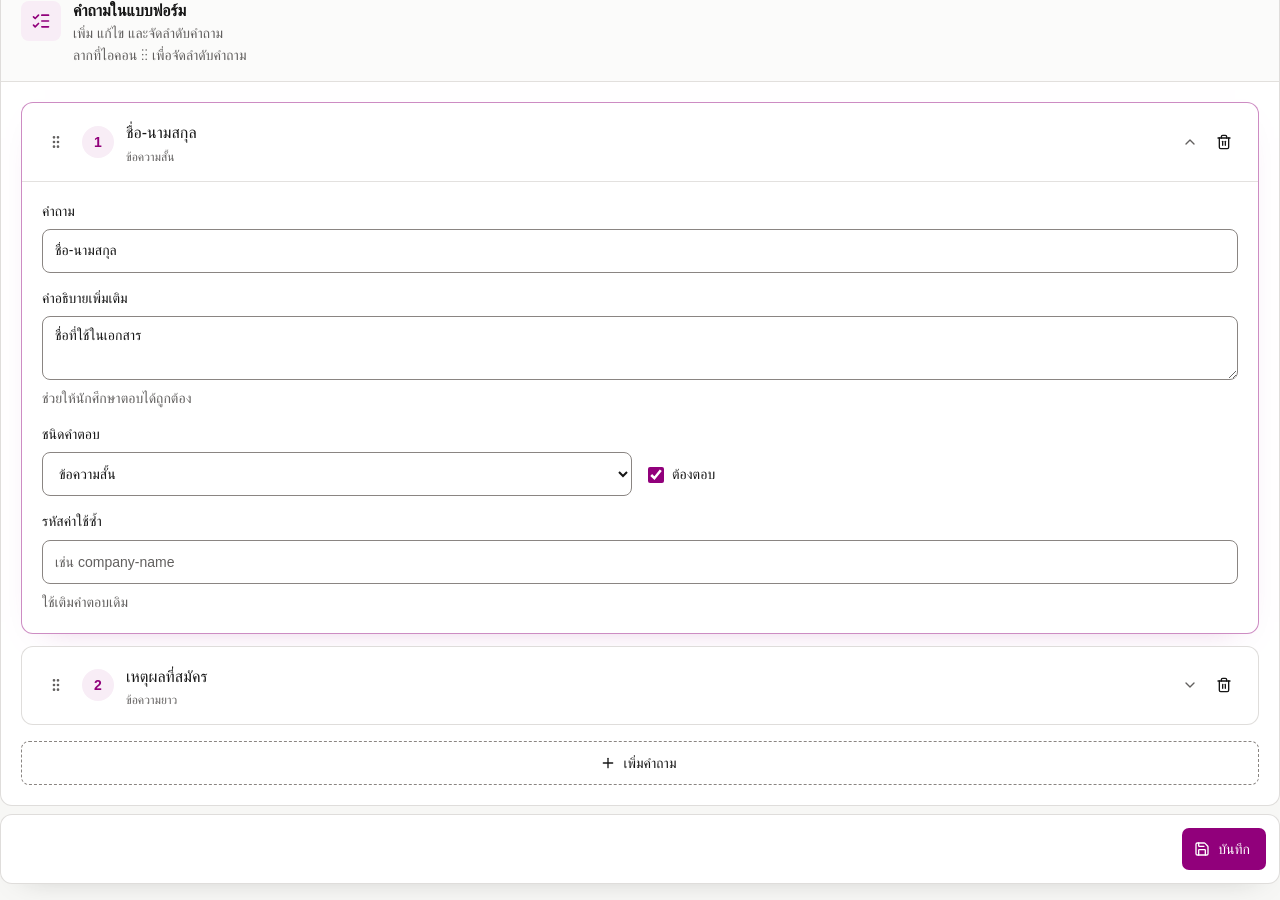
FormBuilder draft editing › uses one smooth accordion editor and removes the realtime preview
(page scrolled)
Check: the list item named "แก้ไขคำถาม 2: เหตุผลที่สมัคร" is shown, box [21,646,1259,725]
Click the button with aria-label "แก้ไขคำถาม 2: เหตุผลที่สมัคร" at [98, 685], box [82,662,1198,708]
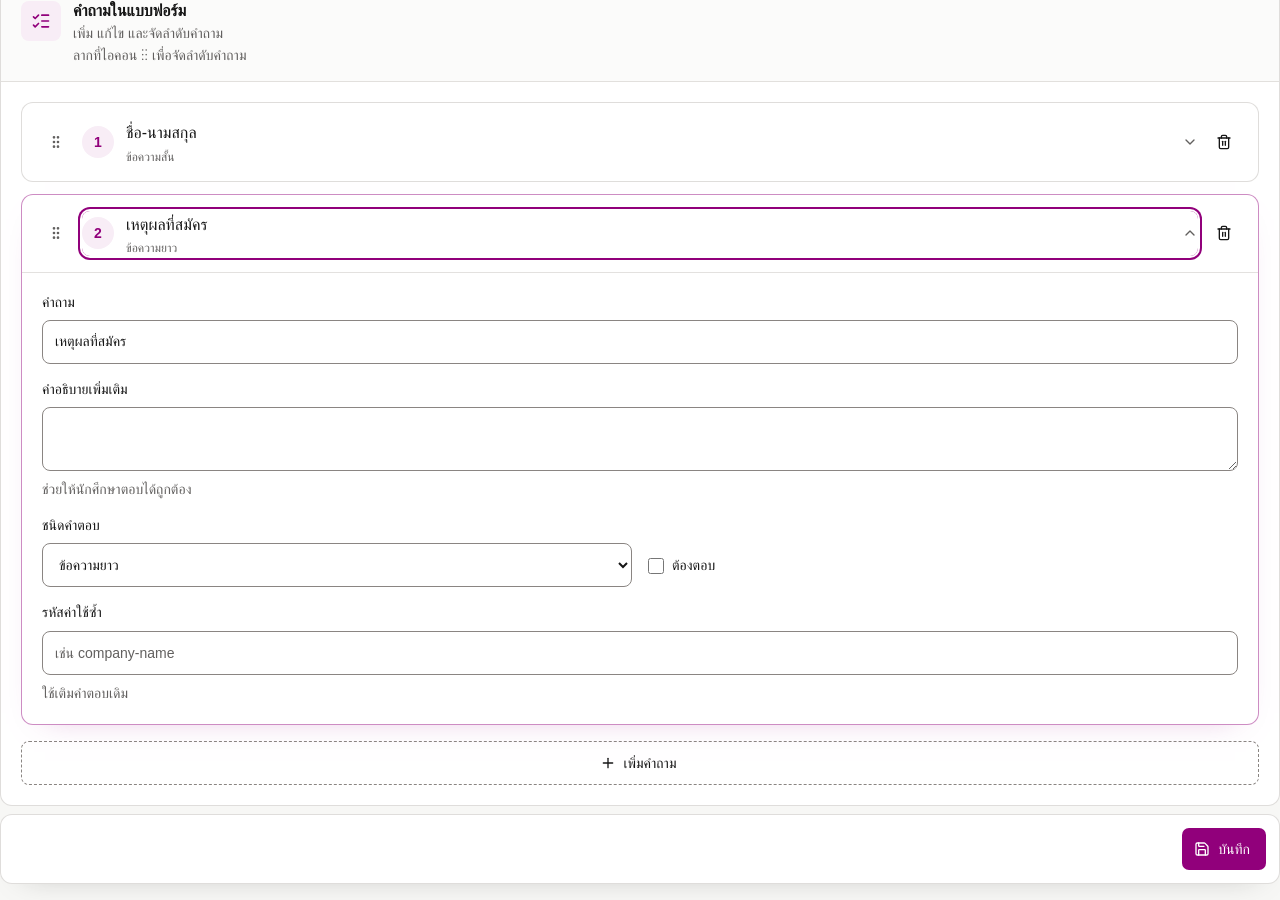
Check: the button named "แก้ไขคำถาม 2: เหตุผลที่สมัคร" is expanded, box [82,210,1198,256]
Check: the button named "ยุบคำถาม 1" is collapsed, box [82,119,1198,164]
